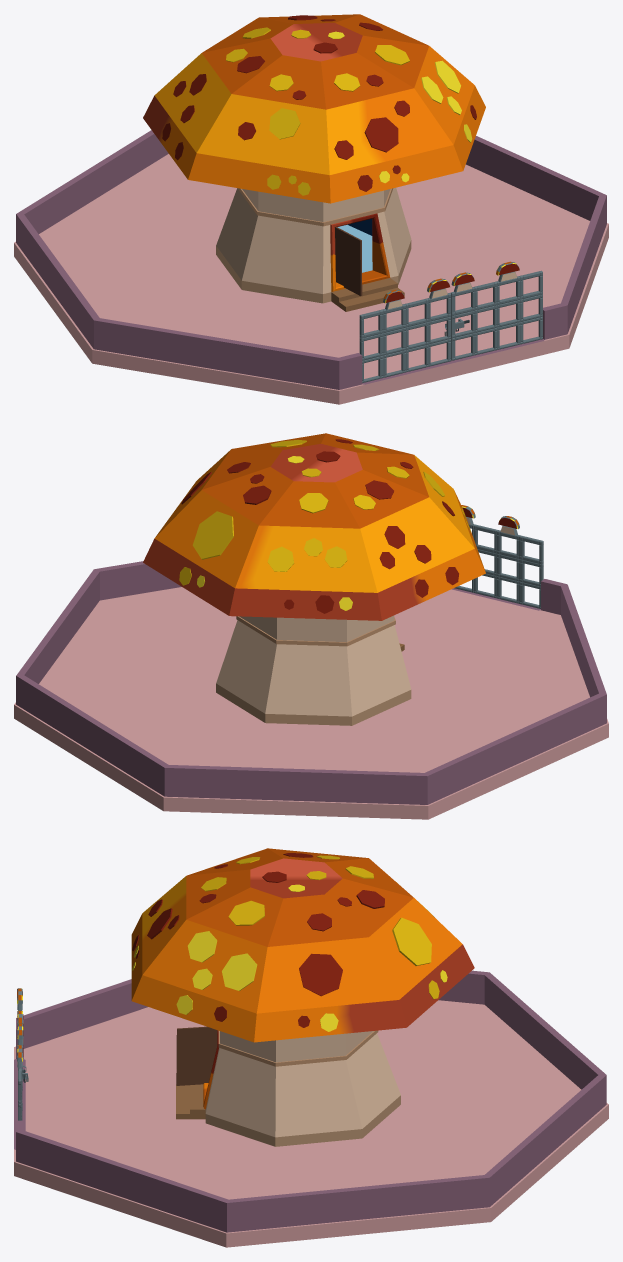
File: casa2.fbx
The picture shows the model from 3 angles, top to bottom: view 1: azimuth 30°, elevation 25°; view 2: azimuth 150°, elevation 25°; view 3: azimuth 270°, elevation 25°; orthographic projection. The views are drawn at different scales.
Visible parts, largest first — view 1: Cylinder.002, Cylinder.050, Cylinder.001, Cylinder.003, Plane; view 2: Cylinder.002, Cylinder.050, Cylinder.003; view 3: Cylinder.002, Cylinder.050, Plane, Cylinder.001.
Part boxes in pixels (x1,y1,x2,y2): Cylinder.002: (14,130,608,404); Cylinder.050: (143,14,485,311); Cylinder.001: (450,261,542,360); Cylinder.003: (359,278,451,382); Plane: (335,227,362,296); Cylinder.002: (14,561,608,819); Cylinder.050: (143,433,485,725); Cylinder.003: (454,505,543,608); Cylinder.002: (14,970,608,1247); Cylinder.050: (131,848,474,1146); Plane: (176,1026,217,1085); Cylinder.001: (17,1023,27,1120).
Bounding box in the file's own units: 740 × 323 × 722.
Materials: 1 (1 with a texture image).
